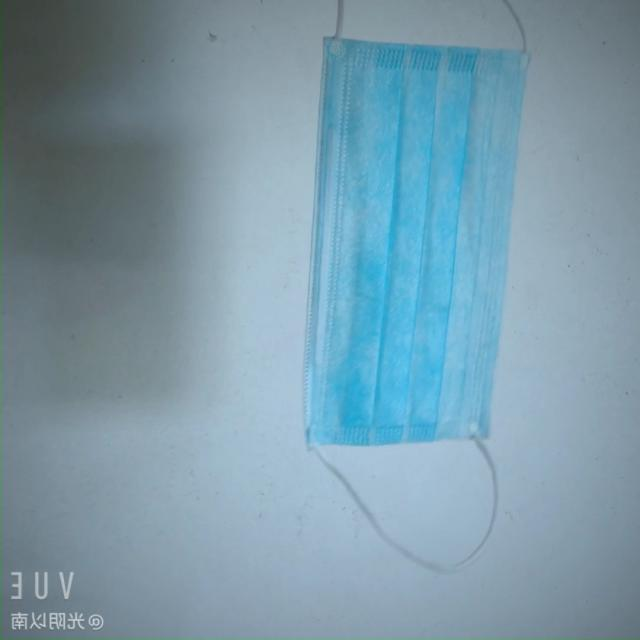face mask: (304, 33, 517, 477)
